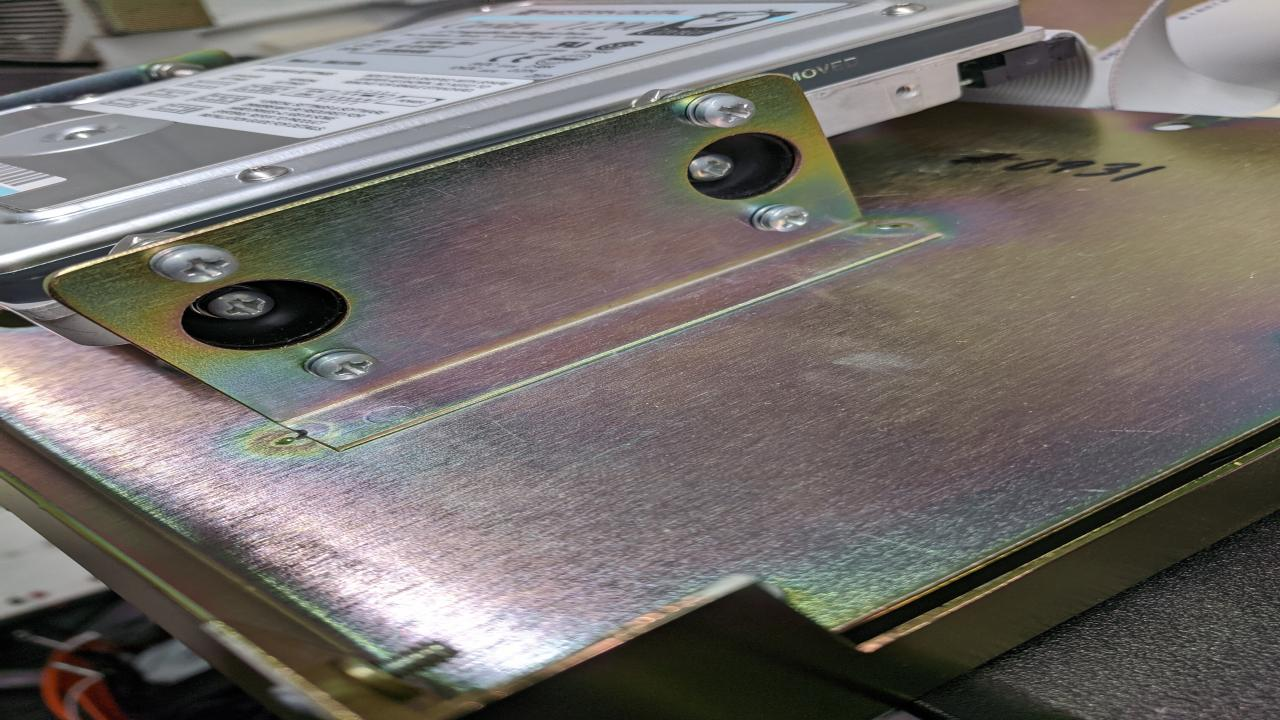CRS: (144, 243, 239, 280), (298, 348, 399, 382), (684, 94, 761, 132), (675, 150, 736, 188), (208, 291, 274, 320), (755, 206, 812, 229)
